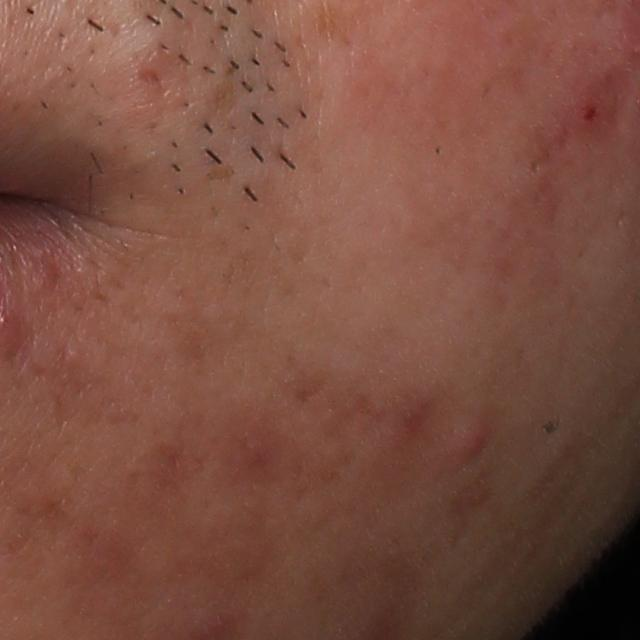papule: (448, 418, 492, 467), (571, 92, 613, 134)
